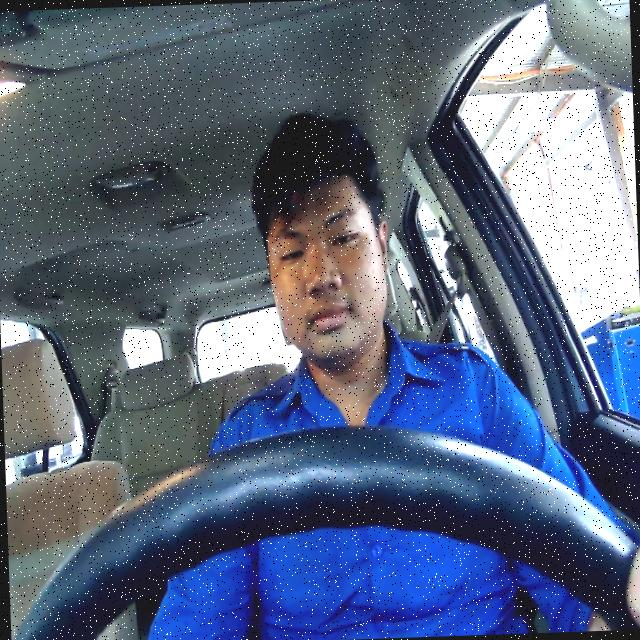focused: (262, 176, 392, 360)
